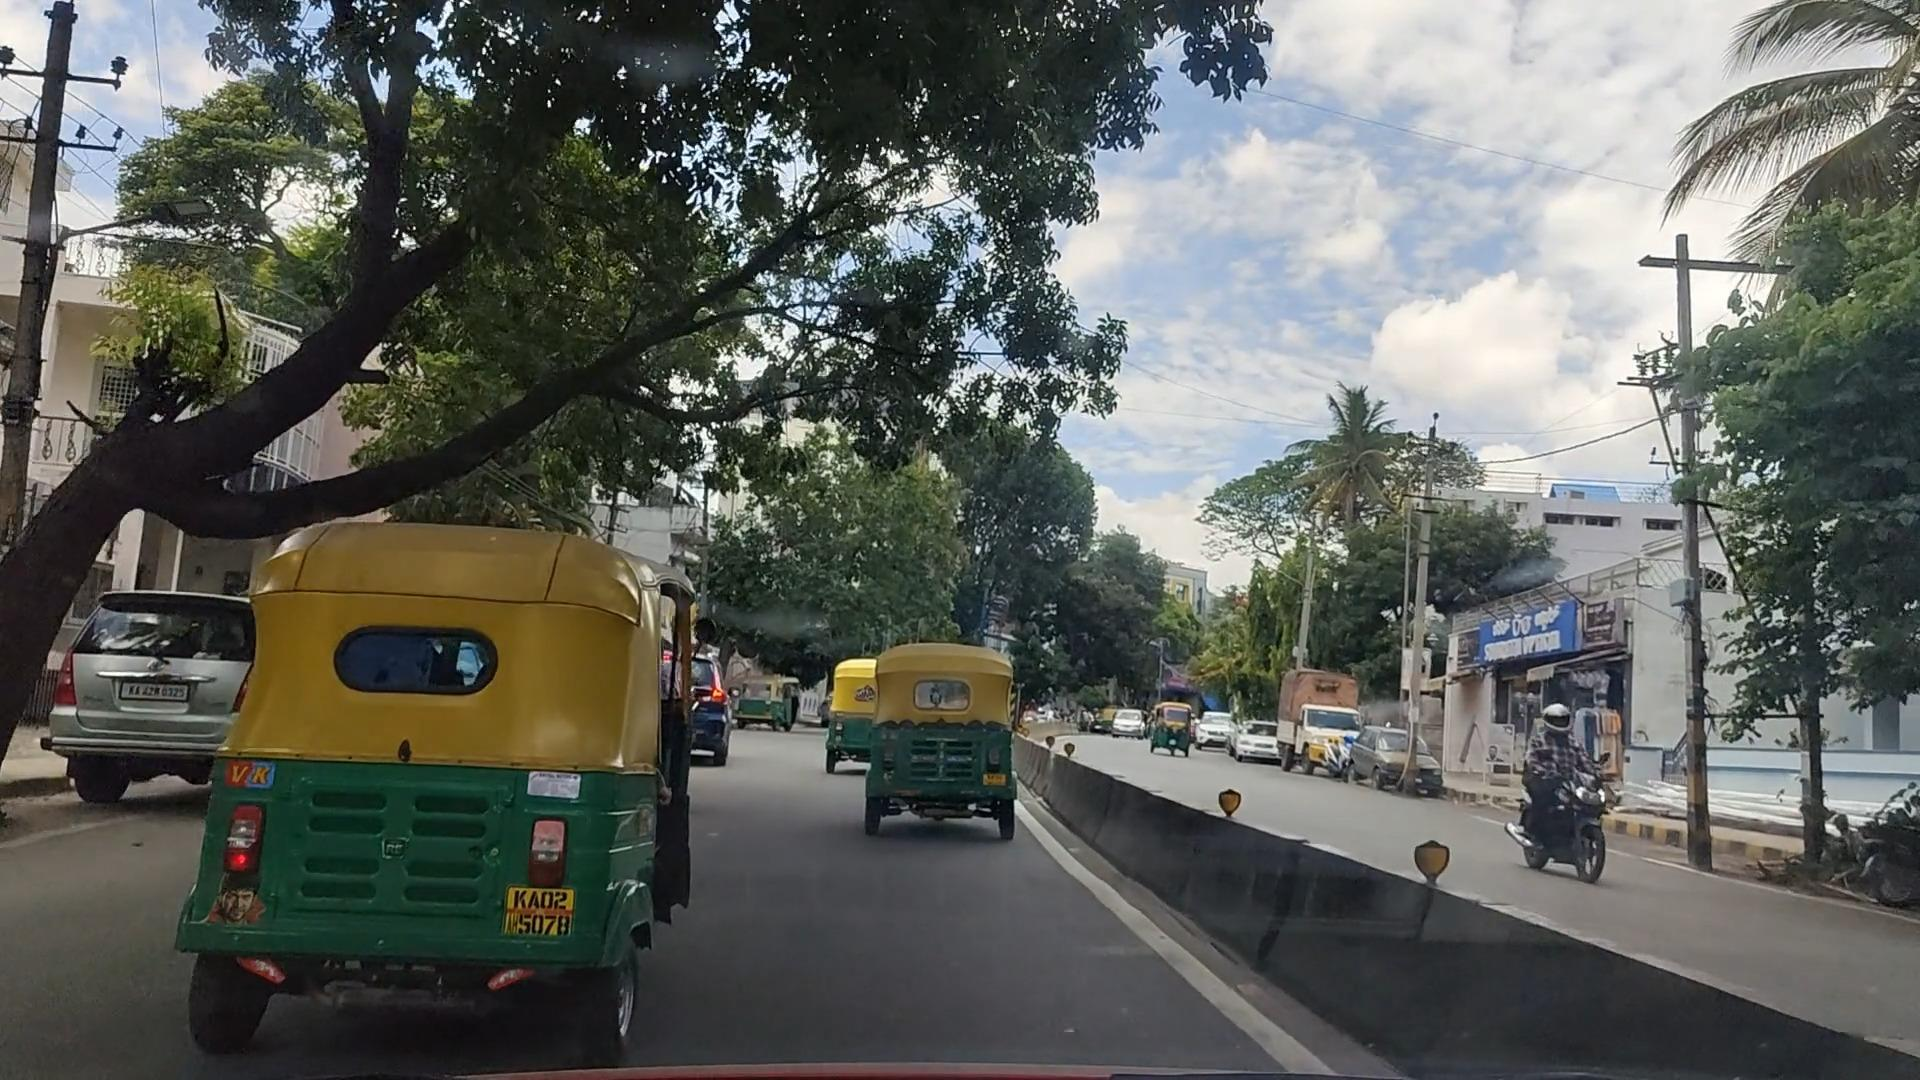LMV: (251, 524, 711, 1056), (845, 644, 1034, 851), (80, 600, 223, 774)
